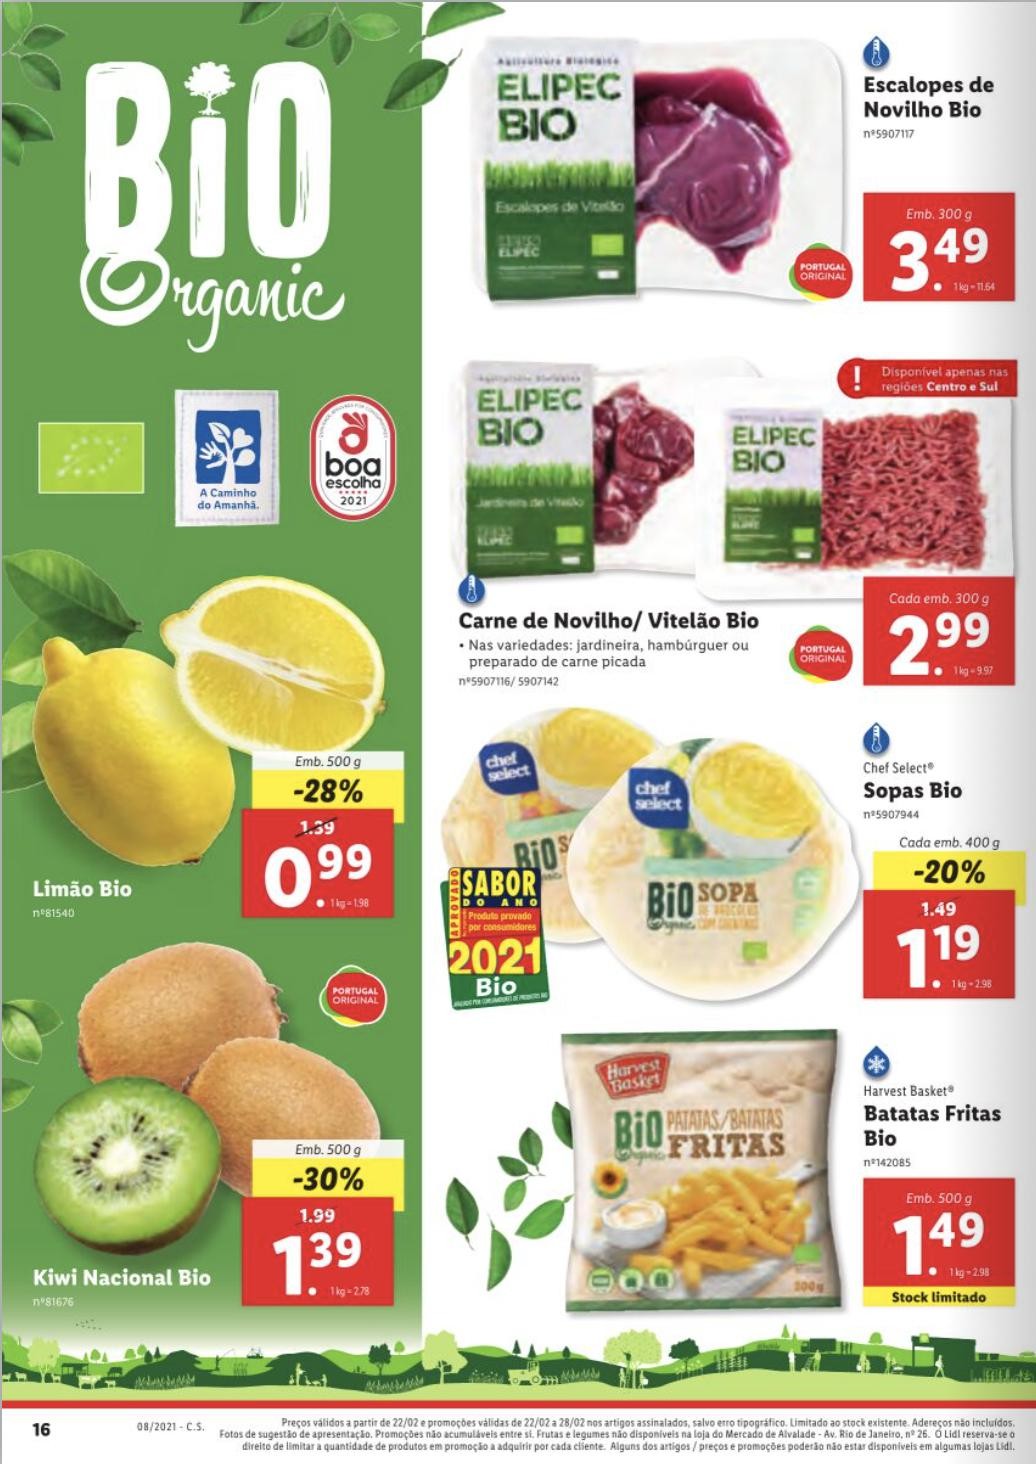name: (454, 604, 767, 638), (859, 1096, 1008, 1151), (30, 1262, 219, 1298), (858, 76, 998, 122), (854, 776, 966, 806), (33, 875, 138, 904)
price: (887, 220, 1007, 300), (881, 606, 1001, 687), (265, 844, 387, 916), (258, 1227, 367, 1307), (888, 921, 990, 1000), (887, 1210, 988, 1284)
product: (448, 333, 1028, 708), (450, 18, 1028, 333), (448, 708, 1025, 1007), (12, 555, 419, 927), (554, 1020, 1019, 1335), (33, 946, 407, 1329)
promotion: (281, 1162, 370, 1198), (287, 773, 372, 810), (910, 855, 992, 891)
